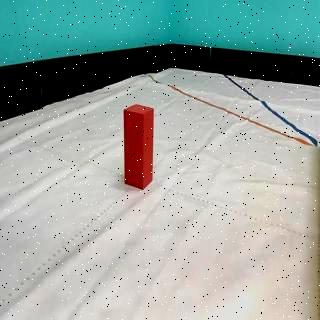redbox: (123, 102, 154, 190)
